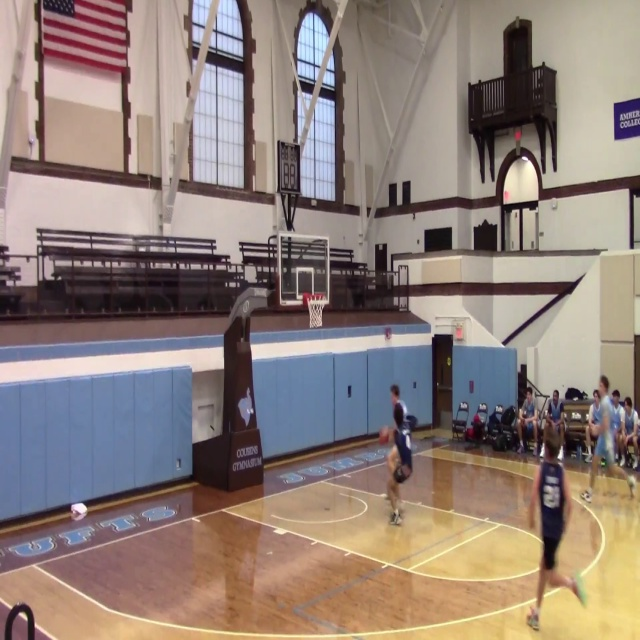Basketball: (379, 426, 389, 445)
